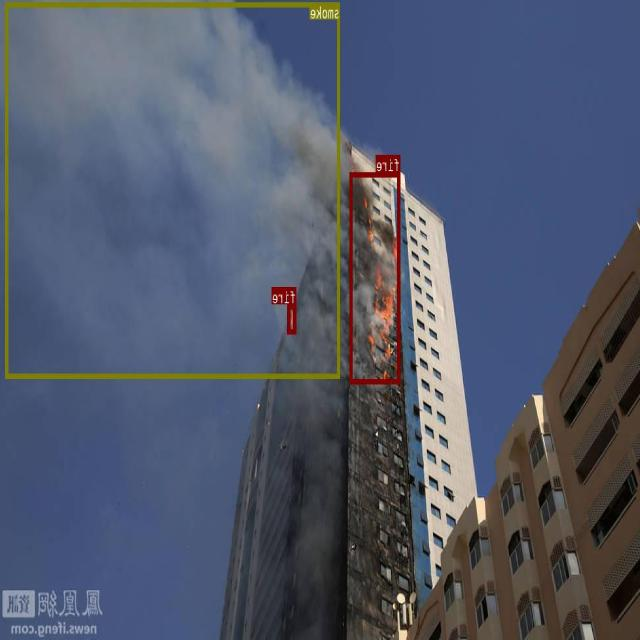fire: (351, 172, 401, 382), (288, 304, 296, 334)
smoke: (7, 1, 340, 377)
